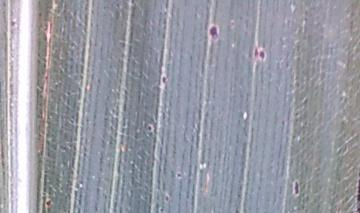tarspot: (203, 19, 224, 47), (251, 43, 269, 66), (291, 177, 303, 200), (41, 195, 56, 211), (157, 70, 170, 87), (144, 122, 157, 137), (7, 16, 20, 30), (162, 191, 172, 207), (173, 168, 184, 181), (156, 204, 168, 213)
